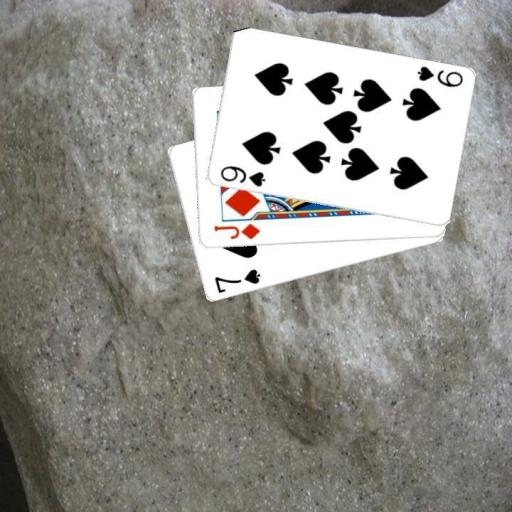card-corner: (211, 266, 262, 295), (414, 63, 464, 89), (216, 163, 267, 188), (210, 221, 262, 241)
